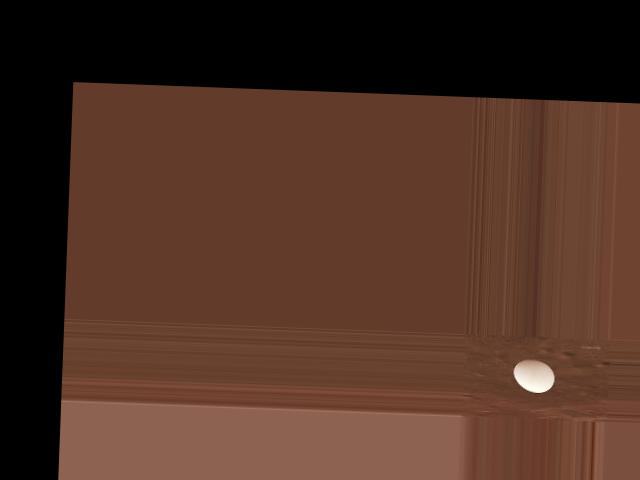egg: (512, 359, 554, 392)
